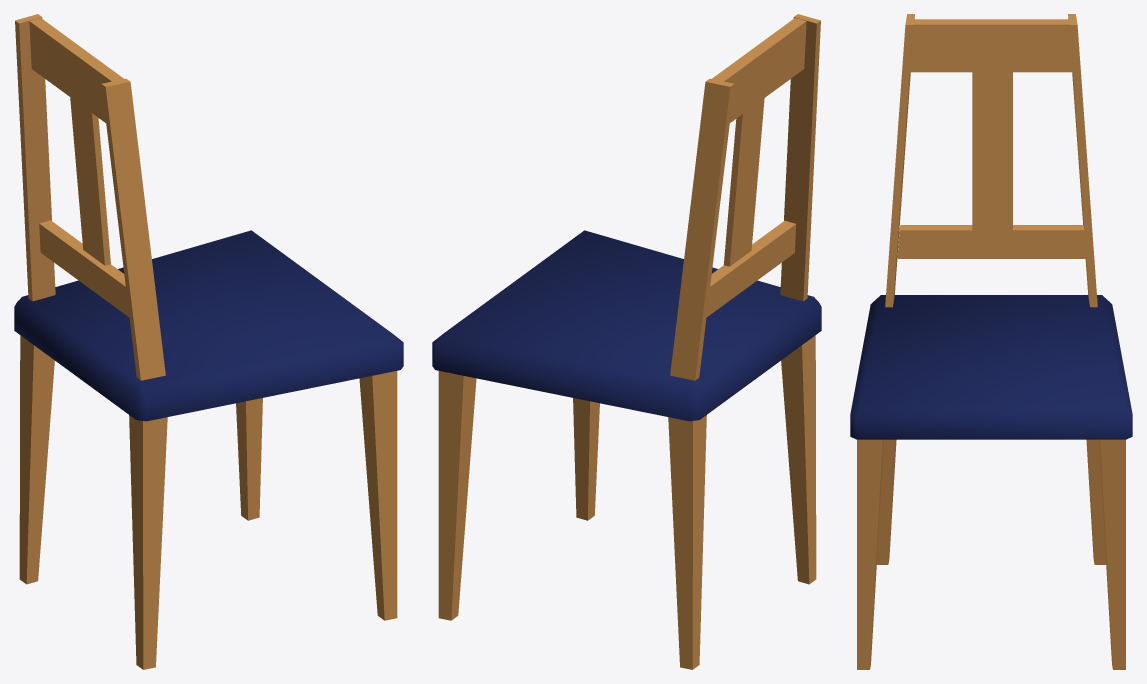
Rendered from chair7.obj.
3 views of the same model, side by side, from view 1: azimuth 30°, elevation 25°; view 2: azimuth 150°, elevation 25°; view 3: azimuth 270°, elevation 25° (orthographic). The views are drawn at different scales.
Parts seen in each view (by area): view 1: Mesh7 Group3 A_Chair_Dining1 Model, Mesh2 Group1 A_Chair_Dining1 Model, Mesh5 Group2 A_Chair_Dining1 Model, Mesh4 Group2 A_Chair_Dining1 Model, Mesh1 Group1 A_Chair_Dining1 Model, Mesh6 Group2 A_Chair_Dining1 Model, Mesh8 Group4 A_Chair_Dining1 Model, Mesh10 Group6 A_Chair_Dining1 Model, Mesh9 Group5 A_Chair_Dining1 Model, Mesh3 Group2 A_Chair_Dining1 Model; view 2: Mesh7 Group3 A_Chair_Dining1 Model, Mesh1 Group1 A_Chair_Dining1 Model, Mesh6 Group2 A_Chair_Dining1 Model, Mesh3 Group2 A_Chair_Dining1 Model, Mesh2 Group1 A_Chair_Dining1 Model, Mesh5 Group2 A_Chair_Dining1 Model, Mesh8 Group4 A_Chair_Dining1 Model, Mesh10 Group6 A_Chair_Dining1 Model, Mesh9 Group5 A_Chair_Dining1 Model, Mesh4 Group2 A_Chair_Dining1 Model; view 3: Mesh7 Group3 A_Chair_Dining1 Model, Mesh8 Group4 A_Chair_Dining1 Model, Mesh10 Group6 A_Chair_Dining1 Model, Mesh9 Group5 A_Chair_Dining1 Model, Mesh3 Group2 A_Chair_Dining1 Model, Mesh4 Group2 A_Chair_Dining1 Model, Mesh2 Group1 A_Chair_Dining1 Model, Mesh1 Group1 A_Chair_Dining1 Model, Mesh5 Group2 A_Chair_Dining1 Model, Mesh6 Group2 A_Chair_Dining1 Model.
Part boxes in pixels (box(x1,y1,x2,y2)): Mesh7 Group3 A_Chair_Dining1 Model: box(14, 230, 403, 421); Mesh2 Group1 A_Chair_Dining1 Model: box(101, 78, 165, 380); Mesh5 Group2 A_Chair_Dining1 Model: box(129, 415, 167, 669); Mesh4 Group2 A_Chair_Dining1 Model: box(359, 371, 397, 620); Mesh1 Group1 A_Chair_Dining1 Model: box(15, 14, 55, 301); Mesh6 Group2 A_Chair_Dining1 Model: box(19, 335, 54, 584); Mesh8 Group4 A_Chair_Dining1 Model: box(29, 18, 123, 122); Mesh10 Group6 A_Chair_Dining1 Model: box(70, 97, 110, 265); Mesh9 Group5 A_Chair_Dining1 Model: box(39, 220, 129, 317); Mesh3 Group2 A_Chair_Dining1 Model: box(236, 398, 262, 520); Mesh7 Group3 A_Chair_Dining1 Model: box(432, 230, 821, 421); Mesh1 Group1 A_Chair_Dining1 Model: box(670, 78, 734, 380); Mesh6 Group2 A_Chair_Dining1 Model: box(668, 415, 706, 669); Mesh3 Group2 A_Chair_Dining1 Model: box(438, 371, 476, 620); Mesh2 Group1 A_Chair_Dining1 Model: box(780, 14, 820, 301); Mesh5 Group2 A_Chair_Dining1 Model: box(781, 335, 816, 584); Mesh8 Group4 A_Chair_Dining1 Model: box(712, 18, 806, 122); Mesh10 Group6 A_Chair_Dining1 Model: box(723, 98, 764, 266); Mesh9 Group5 A_Chair_Dining1 Model: box(706, 220, 796, 317); Mesh4 Group2 A_Chair_Dining1 Model: box(573, 398, 599, 520); Mesh7 Group3 A_Chair_Dining1 Model: box(850, 295, 1132, 439); Mesh8 Group4 A_Chair_Dining1 Model: box(910, 19, 1072, 72); Mesh10 Group6 A_Chair_Dining1 Model: box(972, 72, 1012, 230); Mesh9 Group5 A_Chair_Dining1 Model: box(897, 225, 1086, 258); Mesh3 Group2 A_Chair_Dining1 Model: box(1099, 439, 1125, 669); Mesh4 Group2 A_Chair_Dining1 Model: box(857, 439, 883, 669); Mesh2 Group1 A_Chair_Dining1 Model: box(885, 14, 914, 307); Mesh1 Group1 A_Chair_Dining1 Model: box(1068, 14, 1097, 307); Mesh5 Group2 A_Chair_Dining1 Model: box(876, 439, 896, 564); Mesh6 Group2 A_Chair_Dining1 Model: box(1086, 439, 1106, 564).
Size of the model in its own units: 0.4301 by 0.8742 by 0.4175.
